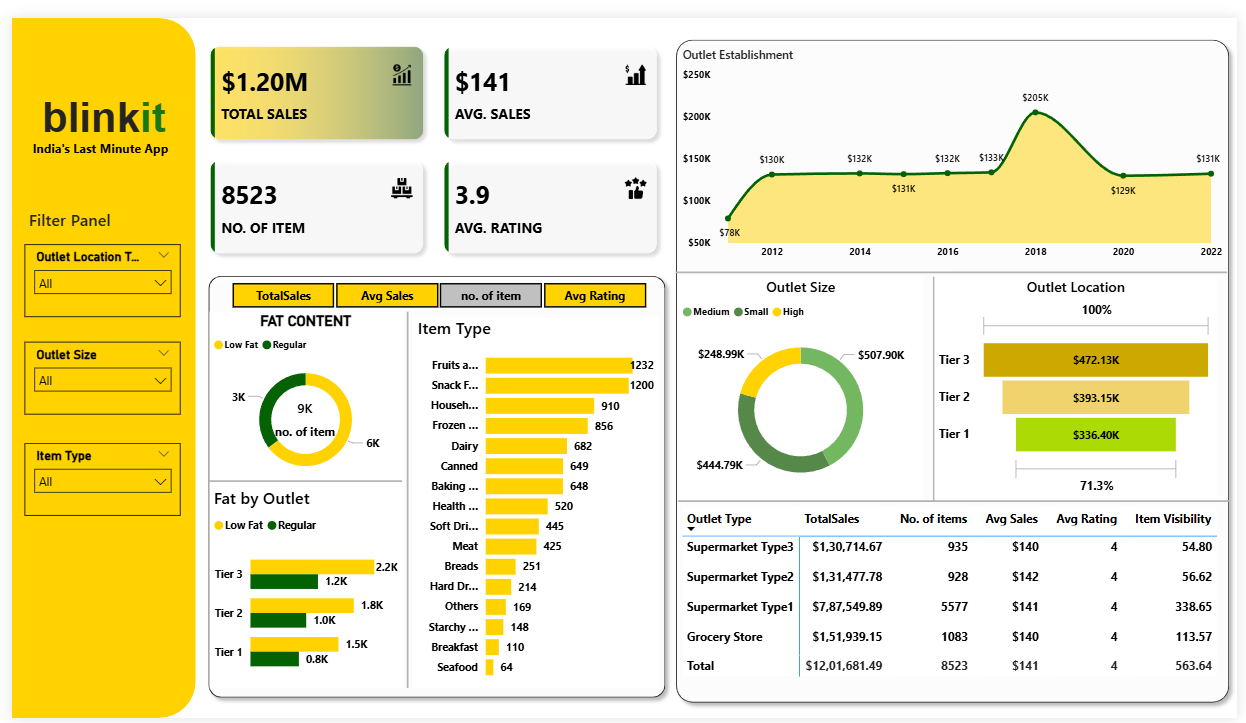

Layout of this report page (visuals, bound fields, positions):
{"tool":"powerbi","page":{"name":"Page 1","canvas":[1400,800],"ordinal":0},"visuals":[{"type":"shape","box":[0,0,210,800],"z":0},{"type":"textbox","box":[0,81.4,210,77.1],"z":1000},{"type":"textbox","box":[18.6,134.3,172.9,34.3],"z":2000},{"type":"cardVisual","fields":{"Data":["Blinkit Grocery Data.TotalSales","Blinkit Grocery Data.Avg Sales","Blinkit Grocery Data.no. of item","Blinkit Grocery Data.Avg Rating"]},"box":[210,15.7,545.7,270],"z":3000},{"type":"shape","box":[215.7,285.7,540,500],"z":4000},{"type":"donutChart","title":"FAT CONTENT","fields":{"Y":["Blinkit Grocery Data.Avg Rating"],"Category":["Blinkit Grocery Data.Item Fat Content"]},"box":[225.7,335.7,220,200],"z":5000},{"type":"slicer","fields":{"Values":["Matrices.Matrices"]},"box":[225.7,295.7,522.9,40],"z":6000},{"type":"cardVisual","fields":{"Data":["Blinkit Grocery Data.Avg Rating"]},"box":[275.7,418.6,118.6,67.1],"z":7000},{"type":"clusteredBarChart","title":"Fat by Outlet","fields":{"Y":["Blinkit Grocery Data.Avg Rating"],"Category":["Blinkit Grocery Data.Outlet Location Type"],"Series":["Blinkit Grocery Data.Item Fat Content"]},"box":[225.7,535.7,220,230],"z":8000},{"type":"shape","box":[225.7,522.9,220,12.9],"z":9000},{"type":"shape","box":[445.7,335.7,12.9,430],"z":10000},{"type":"barChart","title":"Item Type","fields":{"Y":["Blinkit Grocery Data.Avg Rating"],"Category":["Blinkit Grocery Data.Item Type"]},"box":[458.6,341.4,280,424.3],"z":11000},{"type":"shape","box":[750,15.7,650,775.7],"z":12000},{"type":"lineChart","title":"Outlet Establishment ","fields":{"Category":["Blinkit Grocery Data.Outlet Establishment Year"],"Y":["Blinkit Grocery Data.TotalSales"]},"box":[761.4,32.9,627.1,251.4],"z":13000},{"type":"shape","box":[758.6,284.3,630,12.9],"z":14000},{"type":"donutChart","title":"Outlet Size","fields":{"Y":["Blinkit Grocery Data.TotalSales"],"Category":["Blinkit Grocery Data.Outlet Size"]},"box":[761.4,295.7,280,255.7],"z":15000},{"type":"shape","box":[1047.1,295.7,12.9,257.1],"z":16000},{"type":"funnel","title":" Outlet Location ","fields":{"Y":["Blinkit Grocery Data.TotalSales"],"Category":["Blinkit Grocery Data.Outlet Location Type"]},"box":[1054.3,295.7,322.9,254.3],"z":17000},{"type":"shape","box":[761.4,545.7,630,12.9],"z":18000},{"type":"pivotTable","fields":{"Rows":["Blinkit Grocery Data.Outlet Type"],"Values":["Blinkit Grocery Data.TotalSales","Blinkit Grocery Data.No. of items","Blinkit Grocery Data.Avg Sales","Blinkit Grocery Data.Avg Rating","Sum(Blinkit Grocery Data.Item Visibility)"]},"box":[761.4,554.3,627.1,211.4],"z":19000},{"type":"slicer","fields":{"Values":["Blinkit Grocery Data.Outlet Size"]},"box":[14.3,370,178.6,82.9],"z":20000},{"type":"slicer","fields":{"Values":["Blinkit Grocery Data.Item Type"]},"box":[14.3,485.7,178.6,82.9],"z":21000},{"type":"slicer","fields":{"Values":["Blinkit Grocery Data.Outlet Location Type"]},"box":[14.3,258.6,178.6,82.9],"z":22000},{"type":"textbox","box":[14.3,212.9,125.7,35.7],"z":22001}]}

Visuals, with their boxes in screenshot pixels (x1, y1, x2, y2), scaled from the page's 1400x800 canvas onto the 1246x723 screenshot:
shape: 0:0:187:722
textbox: 0:74:187:143
textbox: 17:121:170:152
cardVisual - Blinkit Grocery Data.TotalSales x Blinkit Grocery Data.Avg Sales: 187:14:673:258
shape: 192:258:673:710
"FAT CONTENT" donutChart: 201:303:397:484
slicer - Matrices.Matrices: 201:267:666:303
cardVisual - Blinkit Grocery Data.Avg Rating: 245:378:351:439
"Fat by Outlet" clusteredBarChart: 201:484:397:692
shape: 201:473:397:484
shape: 397:303:408:692
"Item Type" barChart: 408:309:657:692
shape: 668:14:1245:715
"Outlet Establishment " lineChart: 678:30:1236:257
shape: 675:257:1236:269
"Outlet Size" donutChart: 678:267:927:498
shape: 932:267:943:500
" Outlet Location " funnel: 938:267:1226:497
shape: 678:493:1238:505
pivotTable - Blinkit Grocery Data.Outlet Type x Blinkit Grocery Data.TotalSales: 678:501:1236:692
slicer - Blinkit Grocery Data.Outlet Size: 13:334:172:409
slicer - Blinkit Grocery Data.Item Type: 13:439:172:514
slicer - Blinkit Grocery Data.Outlet Location Type: 13:234:172:309
textbox: 13:192:125:225
